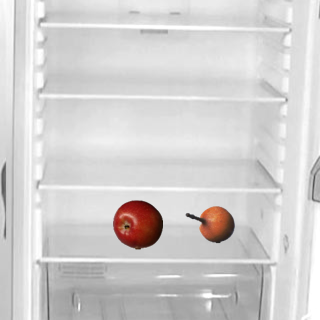Apple Braeburn: (112, 199, 162, 249)
Granadilla: (184, 199, 234, 249)
